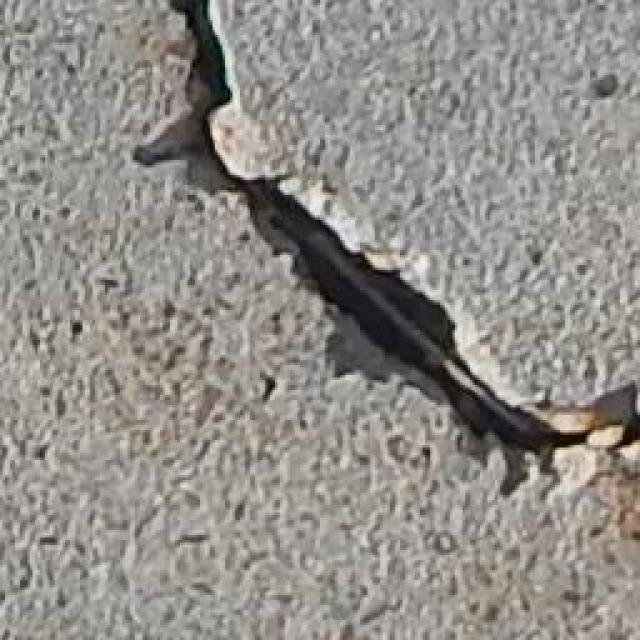concrete-crack: (120, 0, 640, 524)
